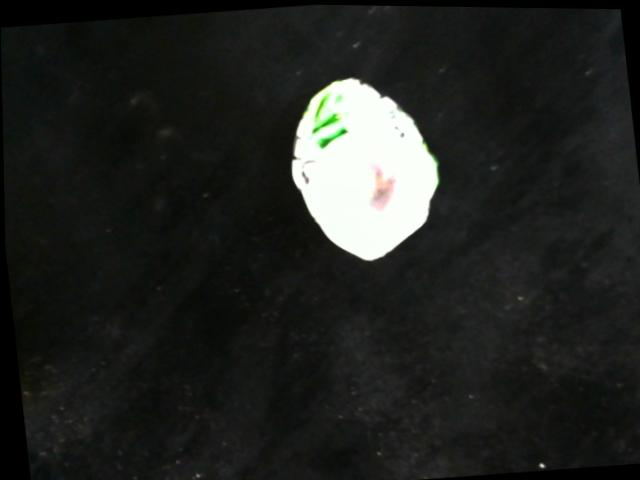can: (287, 67, 449, 261)
